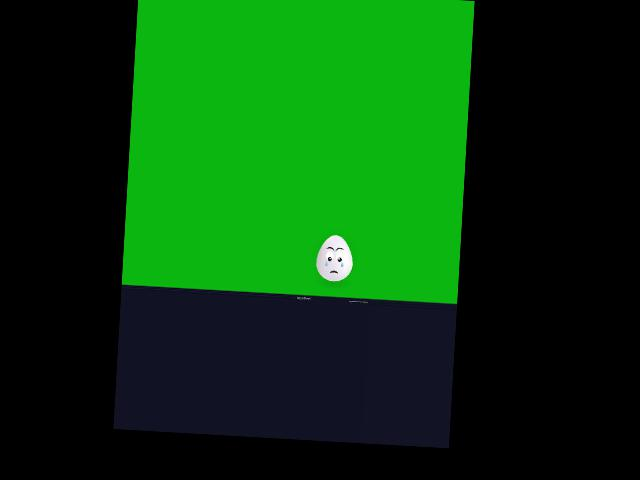egg: (315, 234, 354, 282)
